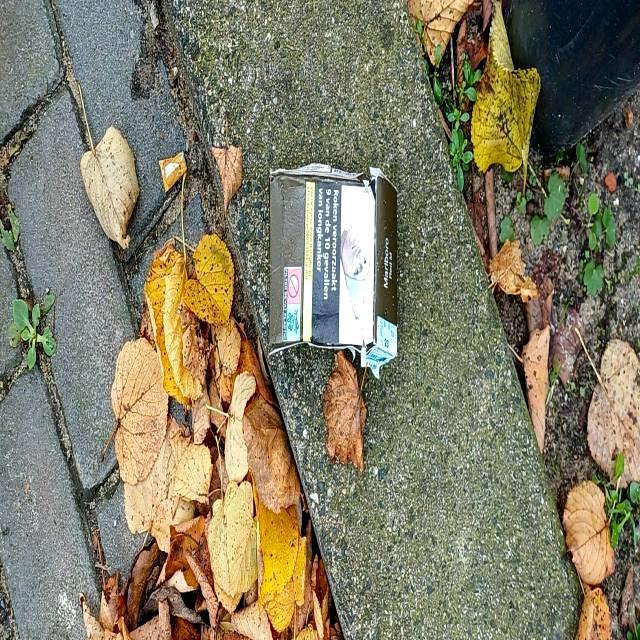Paper: (266, 157, 398, 385)
